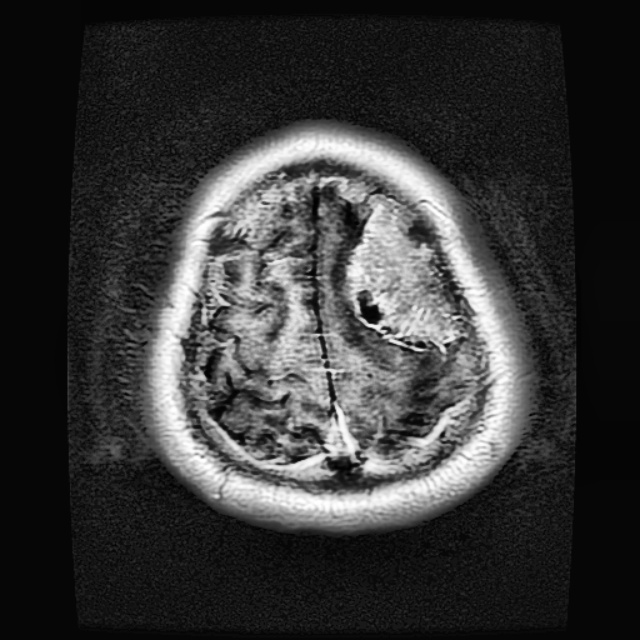Pituitary: (344, 194, 464, 348)
